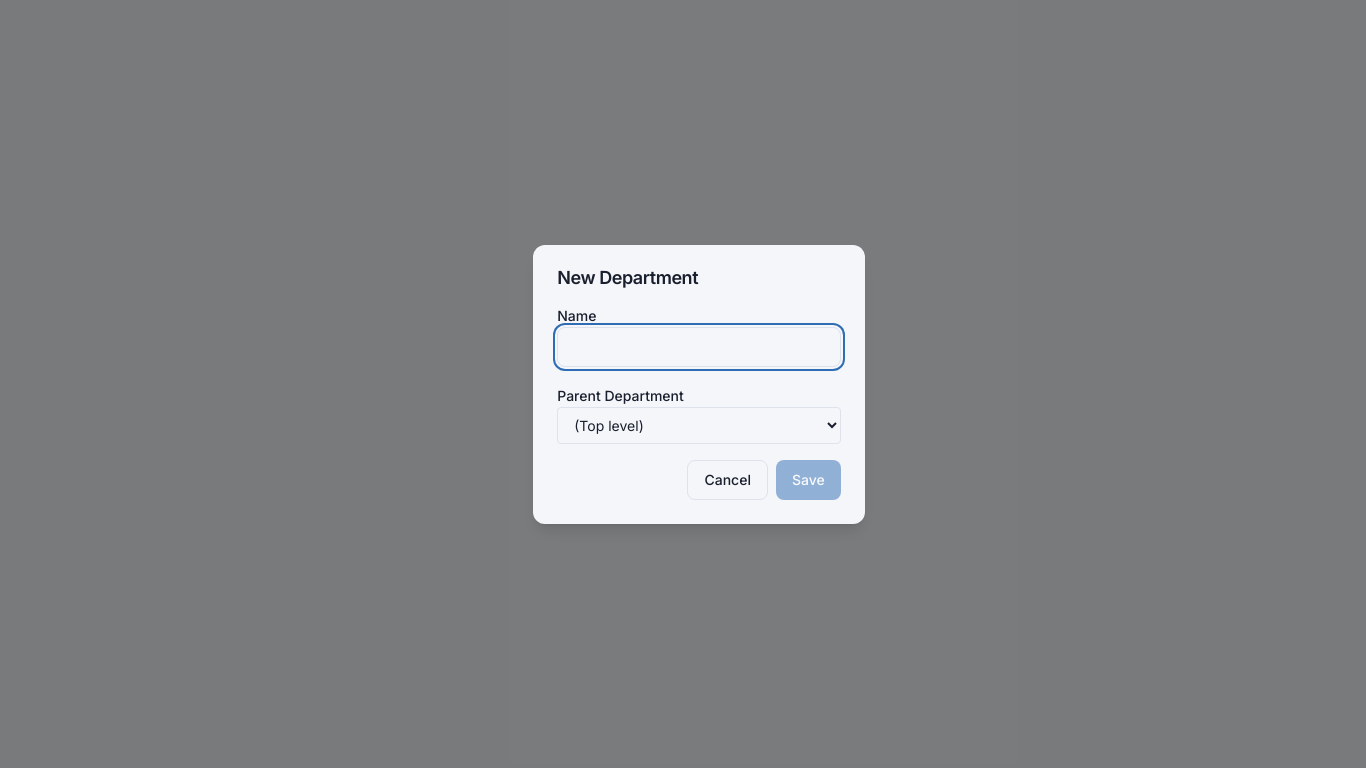
Test: DepartmentCreateModal › shows inline error on DUPLICATE_NAME response
Type "Engineering" into the field labelled "Name" at [699, 346], box [557,326,841,366]
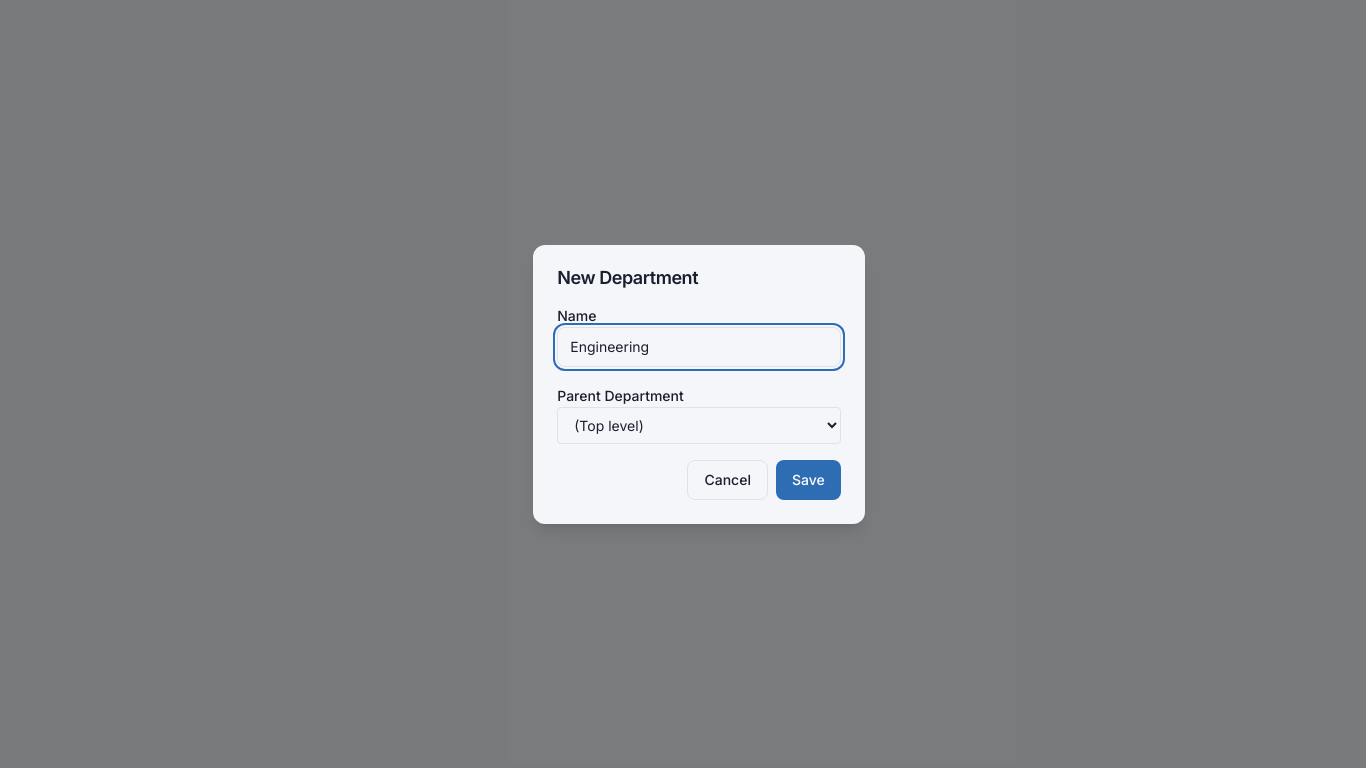
Click the button "Save" at [808, 480], box [776,460,841,500]
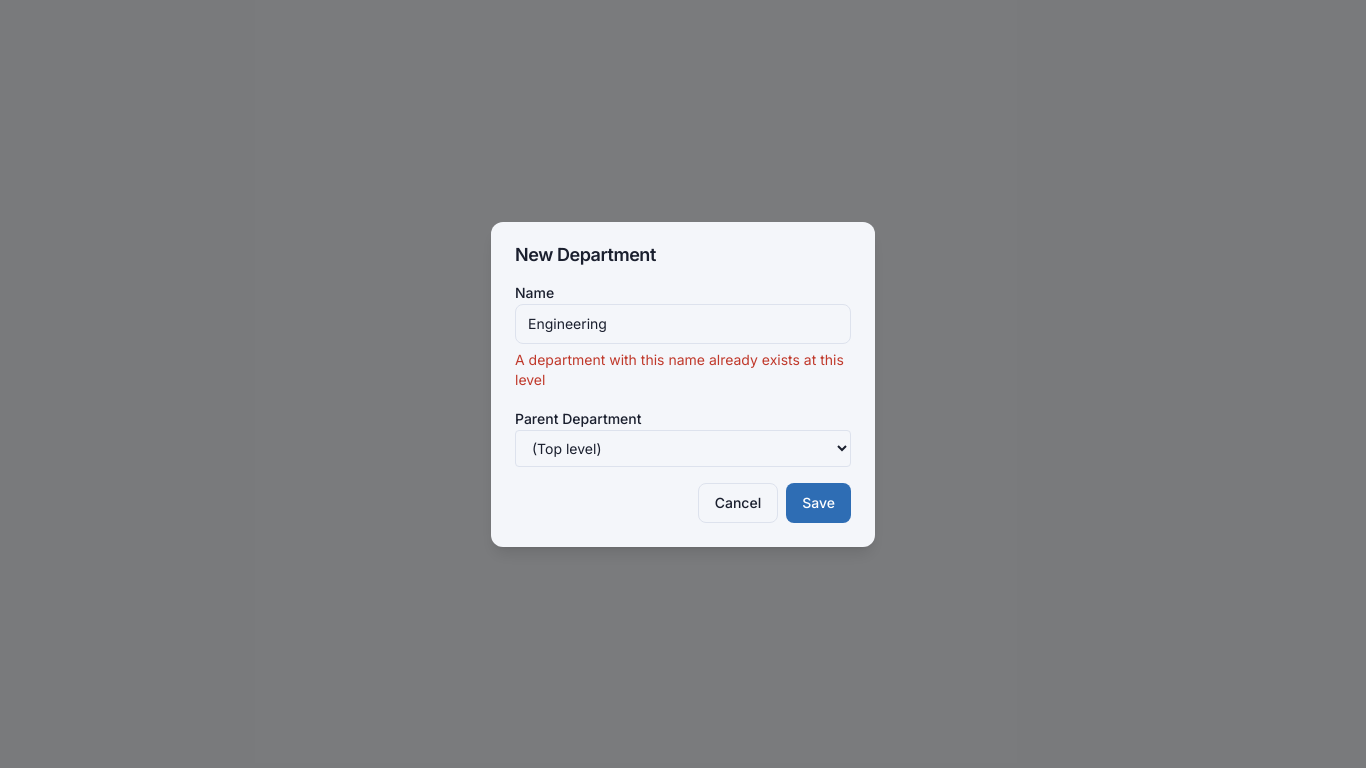
Result: the text "A department with this name already exists at this level" is shown at [515,350,851,390]
